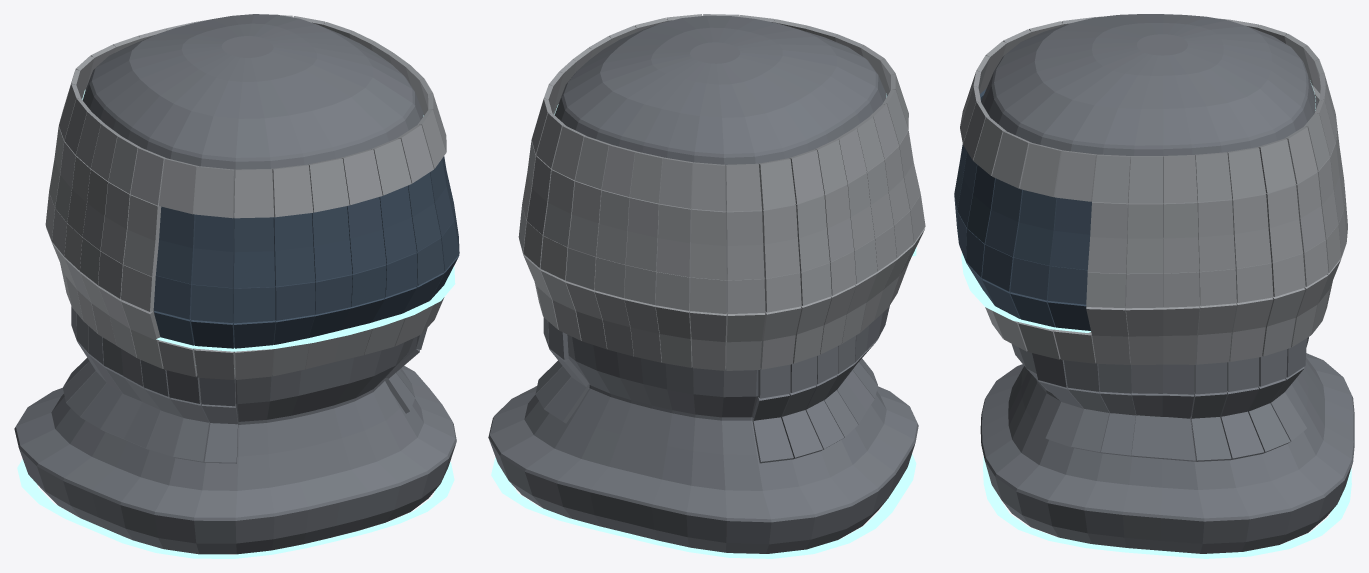
File: SM_Helmet_A.fbx
3 renders of one model, left to right at view 1: azimuth 30°, elevation 25°; view 2: azimuth 150°, elevation 25°; view 3: azimuth 270°, elevation 25°, orthographic. The views are drawn at different scales.
Parts seen in each view (by area): view 1: SM_Helmet_A; view 2: SM_Helmet_A; view 3: SM_Helmet_A.
Part boxes in pixels (box(x1,y1,x2,y2)): SM_Helmet_A: box(14, 14, 459, 558); SM_Helmet_A: box(488, 14, 925, 558); SM_Helmet_A: box(954, 14, 1354, 558).
Size of the model in its own units: 33.62 by 36.6 by 31.05.
